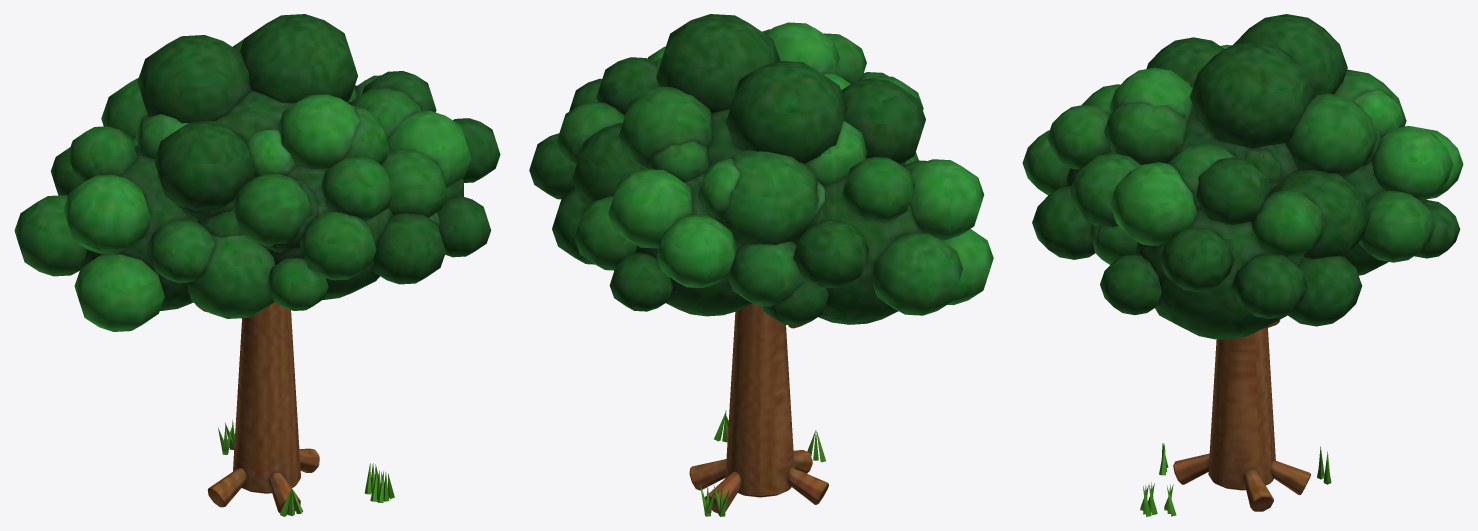
Rendered from star_apple_tree.glb.
3 views of the same model, side by side, from view 1: azimuth 30°, elevation 25°; view 2: azimuth 150°, elevation 25°; view 3: azimuth 270°, elevation 25° (orthographic). The views are drawn at different scales.
Visible parts, largest first — view 1: crown, star_apple_tree; view 2: crown, star_apple_tree; view 3: crown, star_apple_tree.
Boxes of the visible parts, <box> form: crown: <box>14,14,500,331</box>; star_apple_tree: <box>195,302,394,516</box>; crown: <box>529,14,993,325</box>; star_apple_tree: <box>689,303,828,516</box>; crown: <box>1022,14,1463,339</box>; star_apple_tree: <box>1140,319,1331,516</box>.
Size of the model in its own units: 1.36 by 1.39 by 1.21.
1 material, 1 textured.
